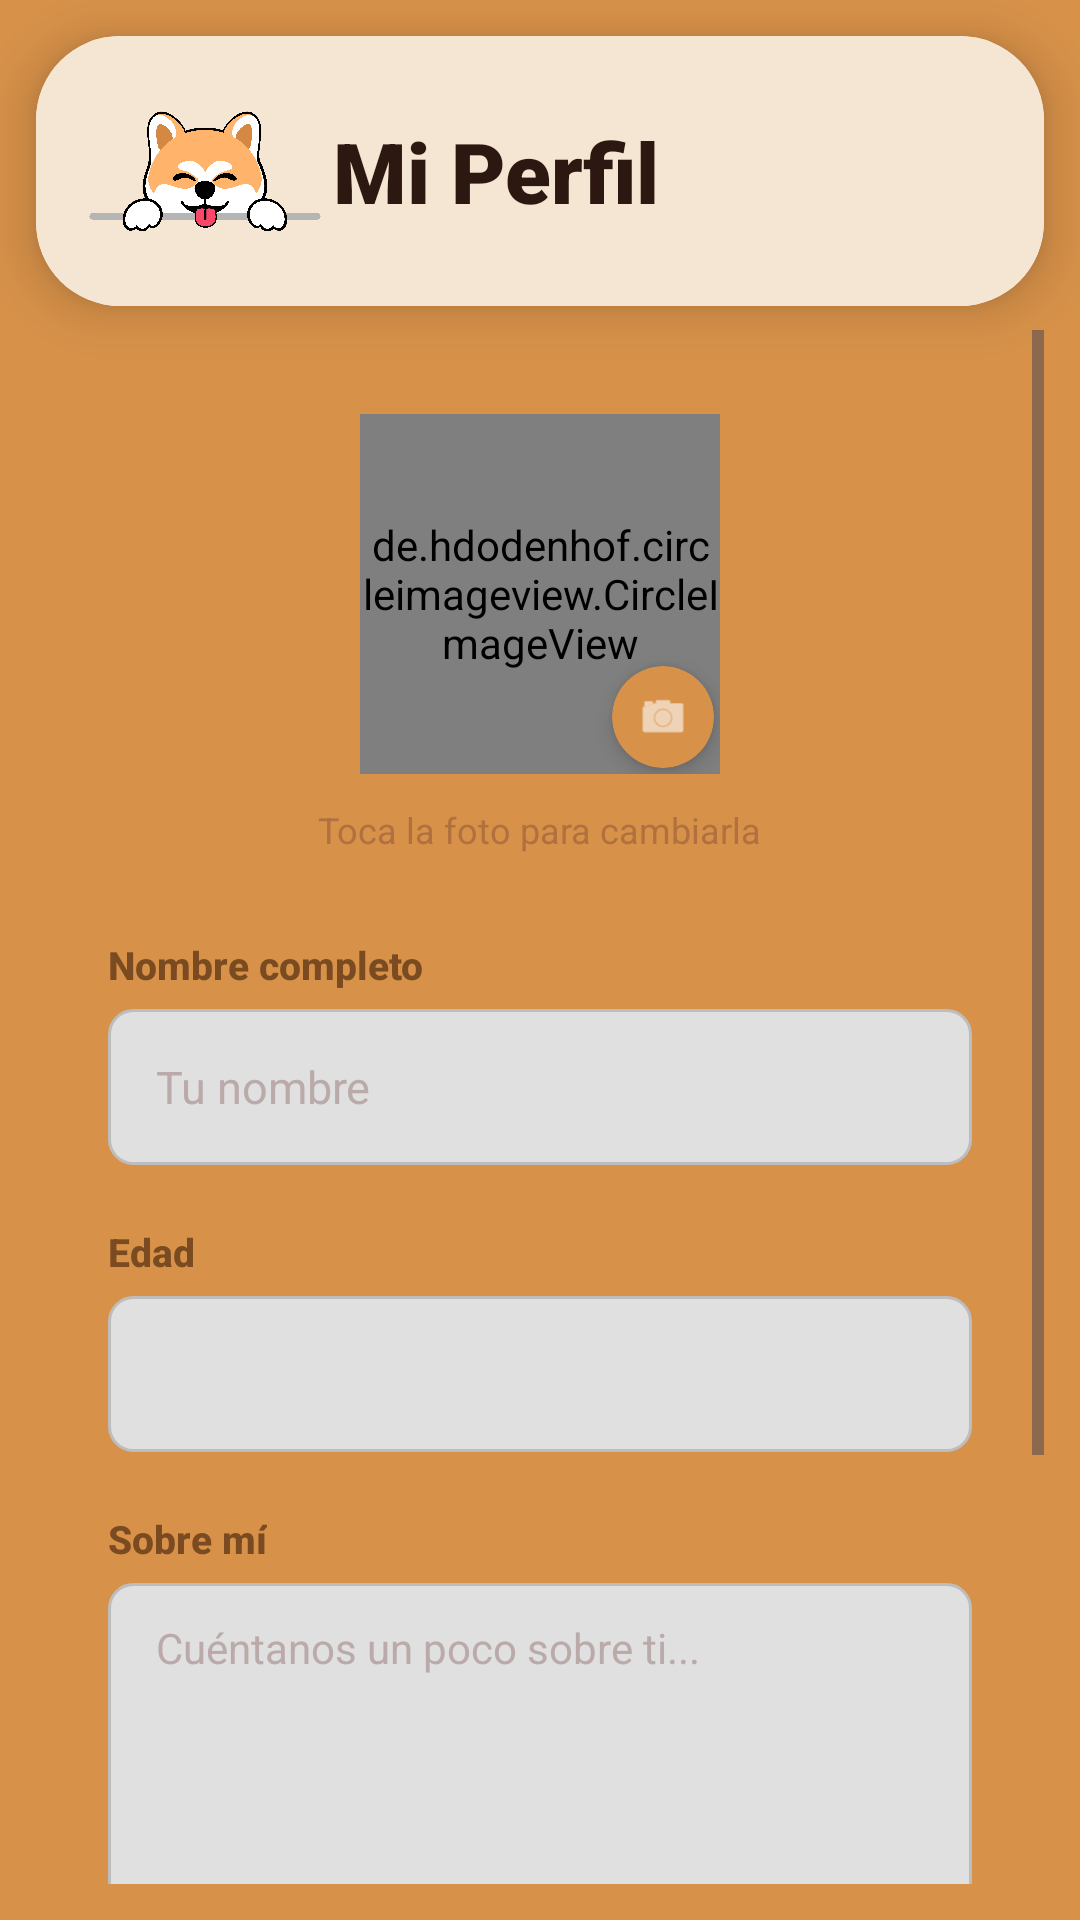

Icon bounding boxes for this 1080*1920 phone screenshot, format [x1,y1,x2,y2]:
camera: [642,700,684,733]
iconoprincipal: [89,111,321,231]
